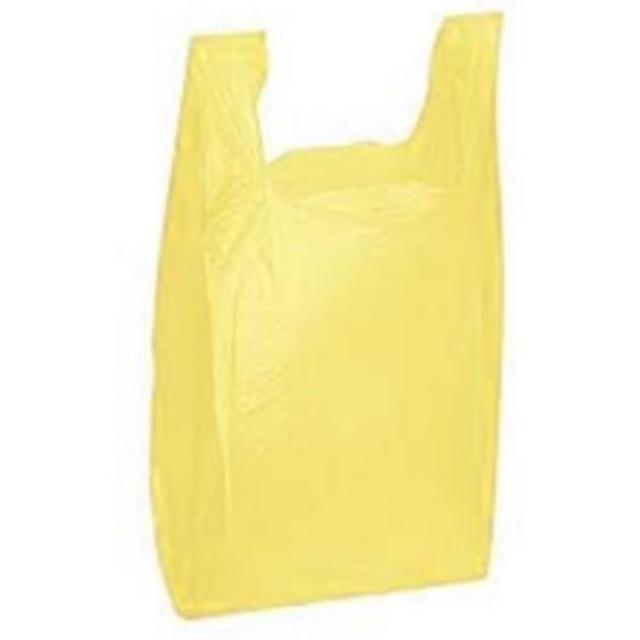plastic: (151, 12, 502, 615)
